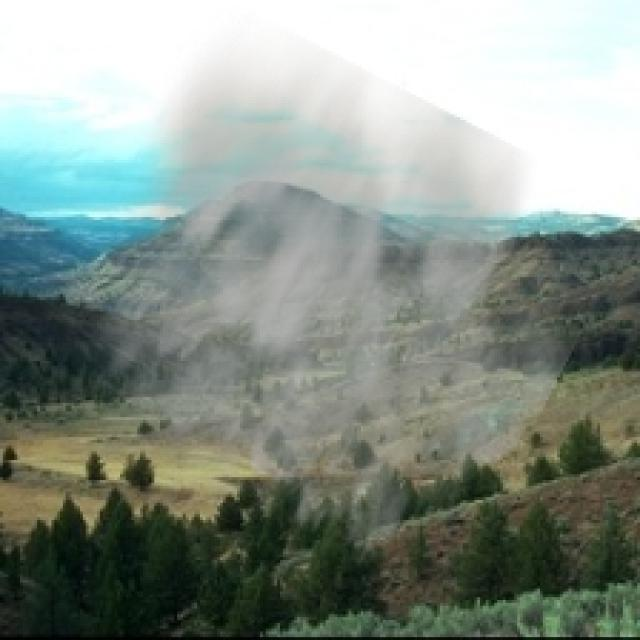Smoke: (69, 6, 600, 568)
